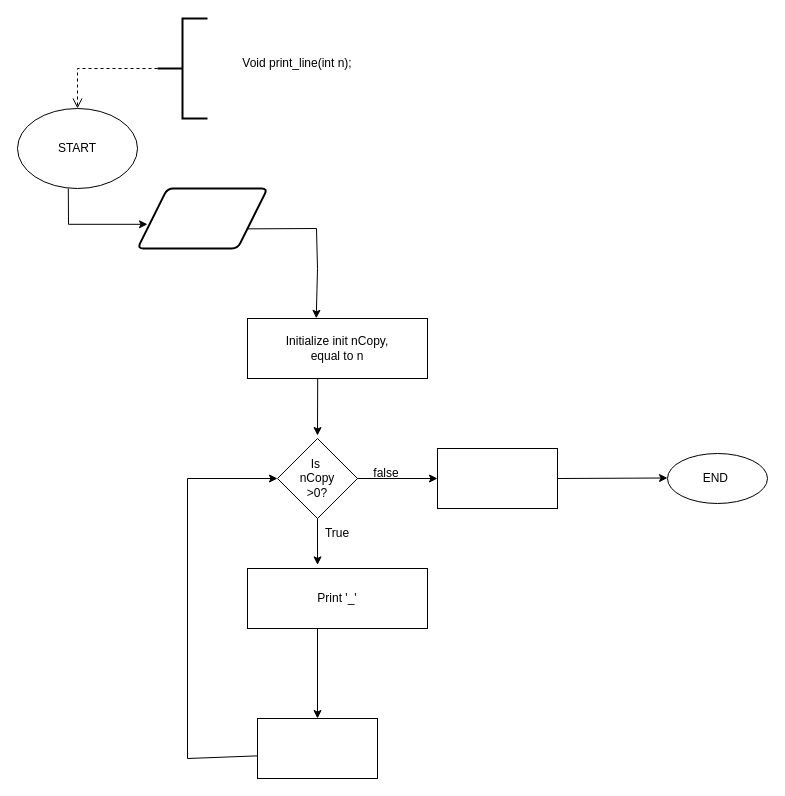
Some shapes in this 785 by 796 pixel diagram are drawn without their labels. The centre of each missing label's shape, as x and y in pixels:
"Decrease nCopy by 1" belongs at pixel 317 748.
"Input: int n" belongs at pixel 202 218.
"Print \n" belongs at pixel 497 478.
